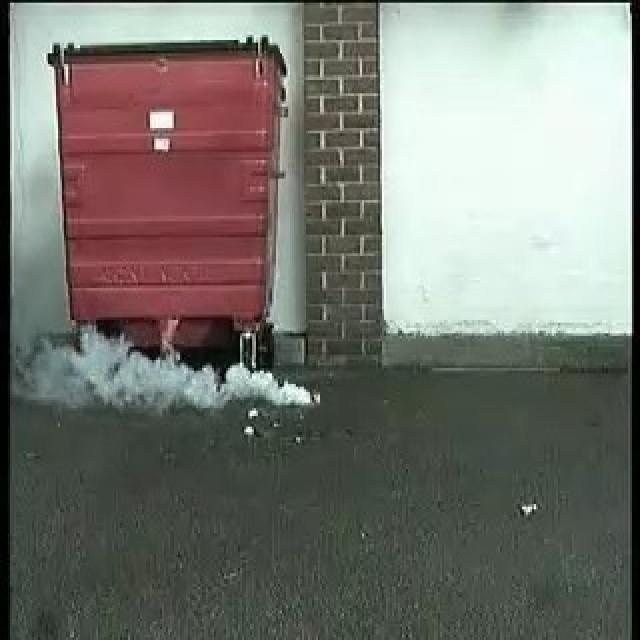smoke: (44, 328, 310, 408)
